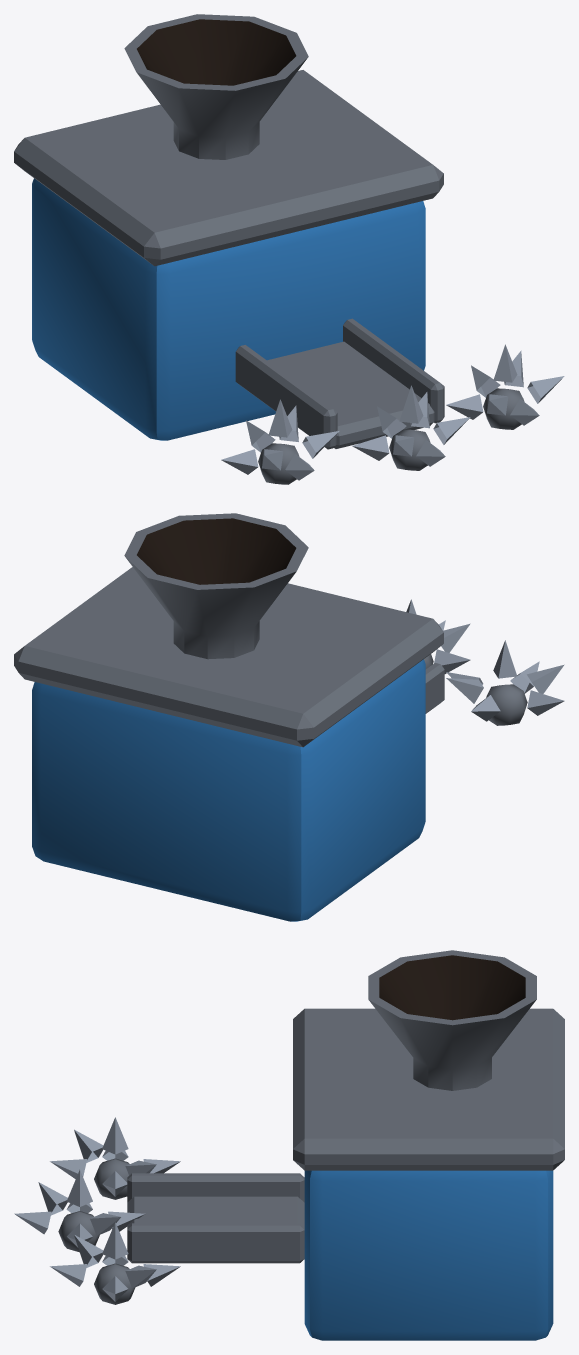
3 views of the same model, one above another, from view 1: azimuth 30°, elevation 25°; view 2: azimuth 150°, elevation 25°; view 3: azimuth 270°, elevation 25° (orthographic). The views are drawn at different scales.
Parts seen in each view (by area): view 1: espinhos_0_base, espinhos_1_torreta; view 2: espinhos_0_base, espinhos_1_torreta; view 3: espinhos_0_base, espinhos_1_torreta.
Boxes of the visible parts, x1,y1,x2,y2 form: espinhos_0_base: [14, 14, 564, 484]; espinhos_1_torreta: [235, 318, 444, 449]; espinhos_0_base: [14, 513, 564, 921]; espinhos_1_torreta: [425, 663, 444, 713]; espinhos_0_base: [14, 950, 564, 1340]; espinhos_1_torreta: [127, 1173, 304, 1263].
Bounding box in the file's own units: 0.6427 × 0.55 × 0.9313.
